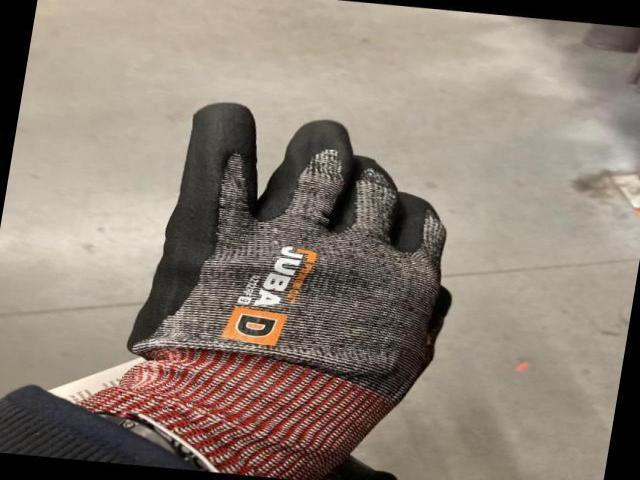Hand-in-Glove: (77, 80, 491, 480)
